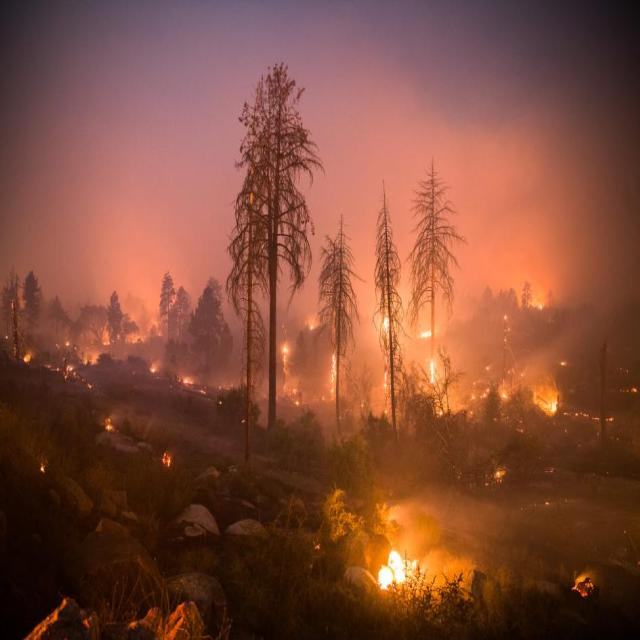Fire: (371, 548, 435, 599)
